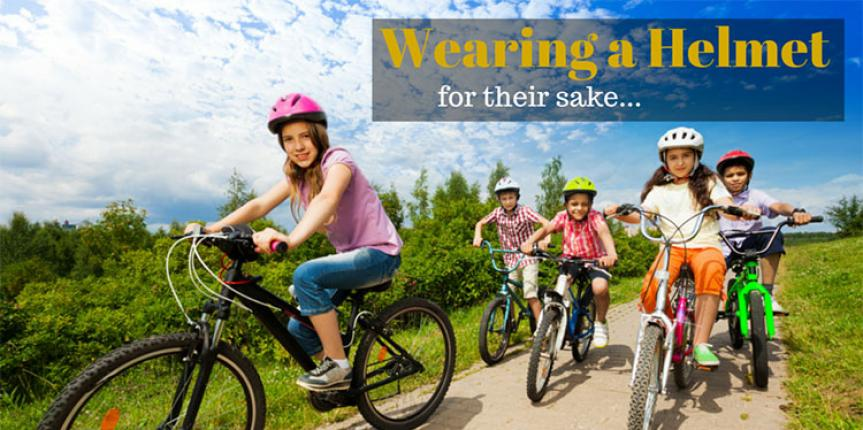helmet: (267, 93, 329, 168), (657, 126, 705, 178), (716, 149, 755, 192), (562, 175, 598, 220), (493, 176, 521, 211)
